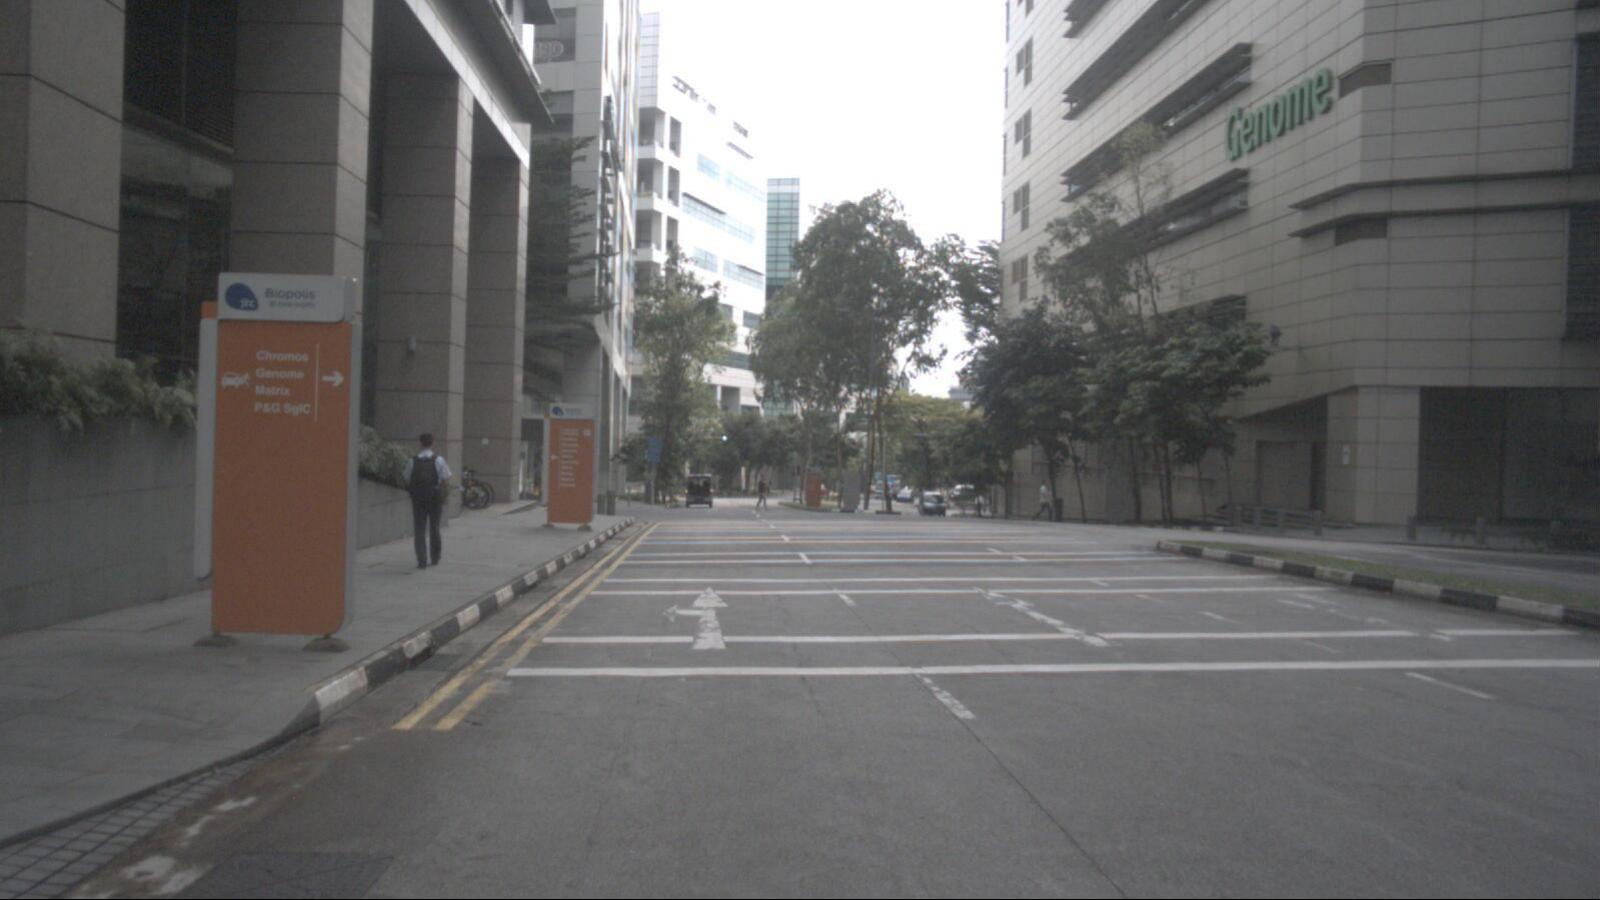human.pedestrian.adult-pedestrian.moving: (403, 434, 452, 569), (1032, 480, 1052, 521), (754, 474, 770, 511), (973, 493, 984, 515)
